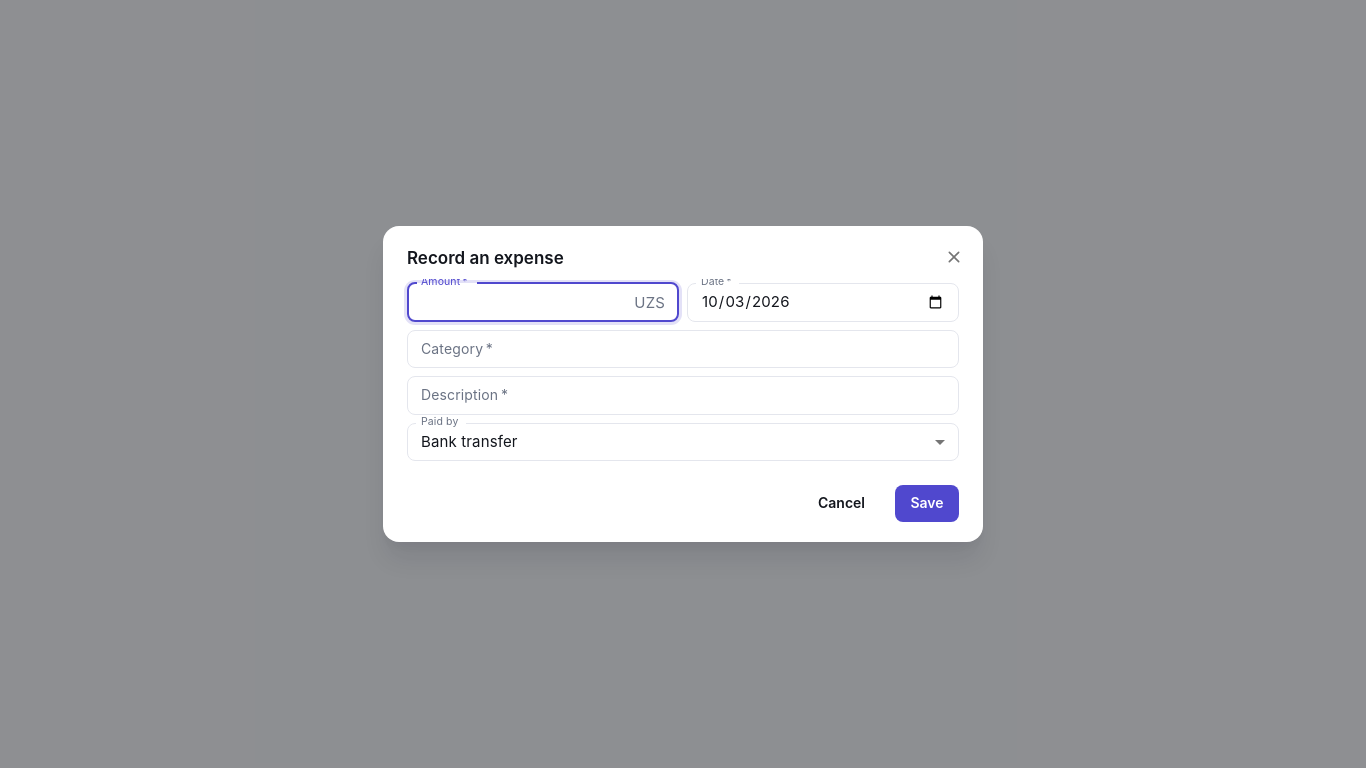
Scenario: ExpenseDialog › offers to add a name that is not in the list
Step 1. Type "Equipment" into the dropdown labelled "Category *" → (682, 349), box [413,336,950,362]
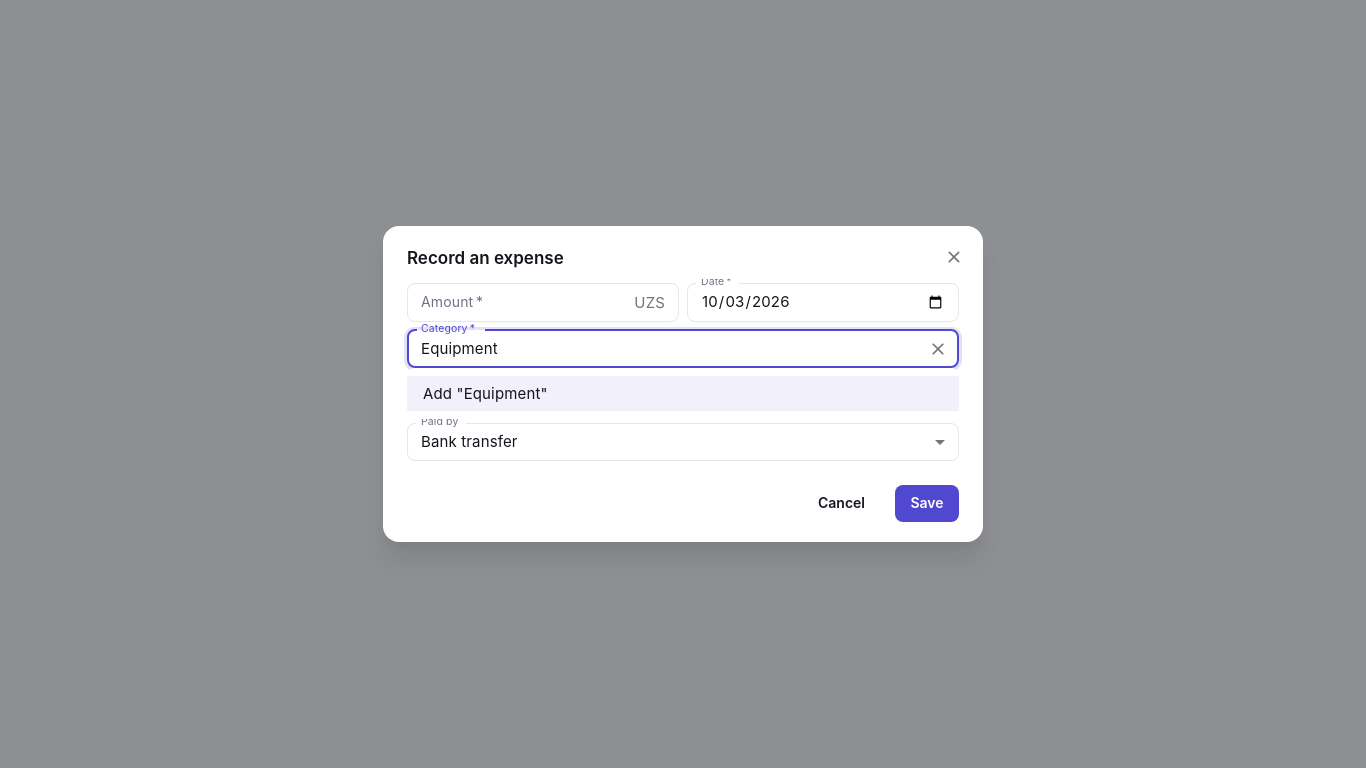
Check: the option "Add \"Equipment\"" is shown, box [407,376,959,411]
